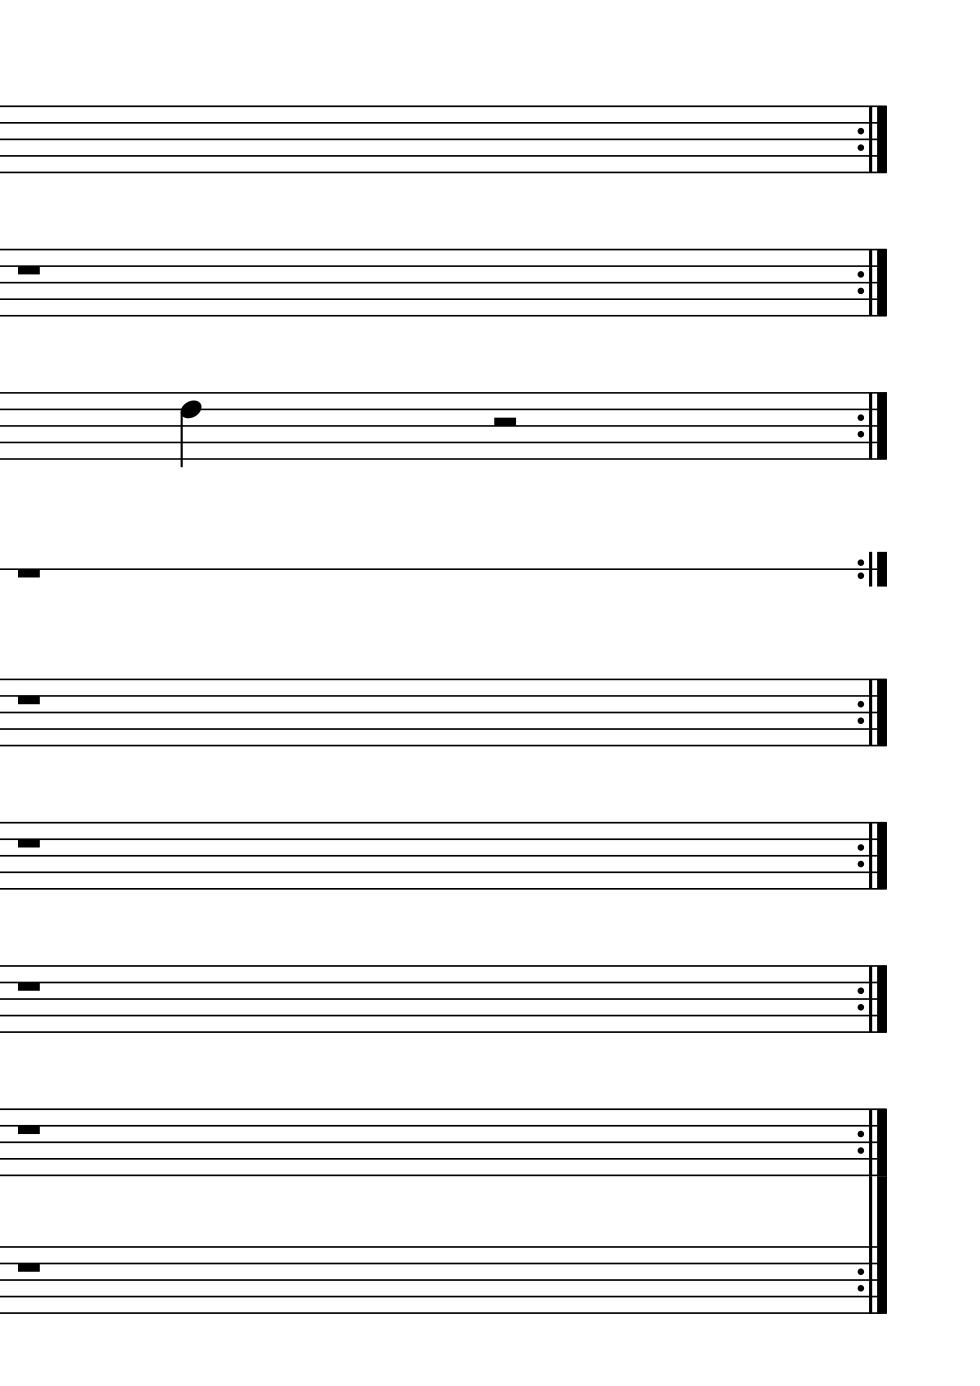4_6: (178, 389, 203, 469)
Rests1: (12, 1256, 46, 1278), (12, 1118, 45, 1140), (12, 975, 43, 997), (12, 832, 45, 854), (12, 260, 45, 280), (13, 564, 46, 584), (13, 690, 43, 710)
Rests2: (488, 413, 521, 432)
RightRepeatSign: (855, 677, 891, 745), (855, 964, 891, 1033), (855, 1107, 891, 1176), (855, 105, 891, 173), (855, 248, 891, 316), (855, 392, 891, 460), (855, 821, 891, 889), (855, 1246, 890, 1315), (856, 552, 889, 587)
